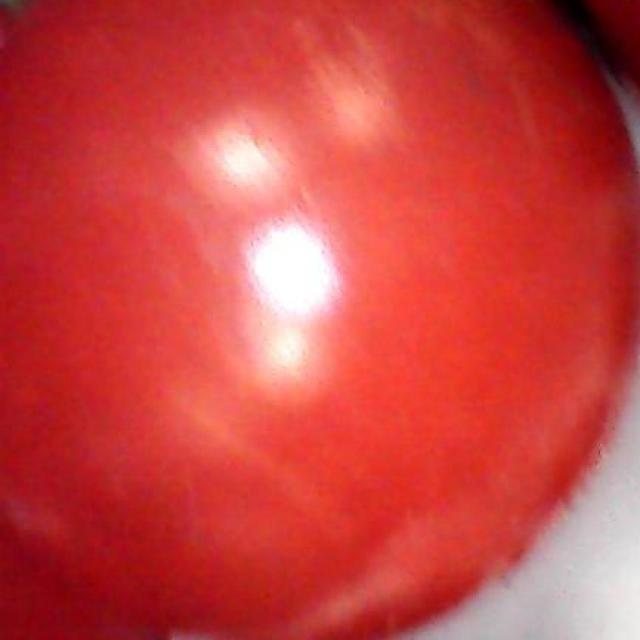Healthy Fruit: (0, 12, 422, 412)
